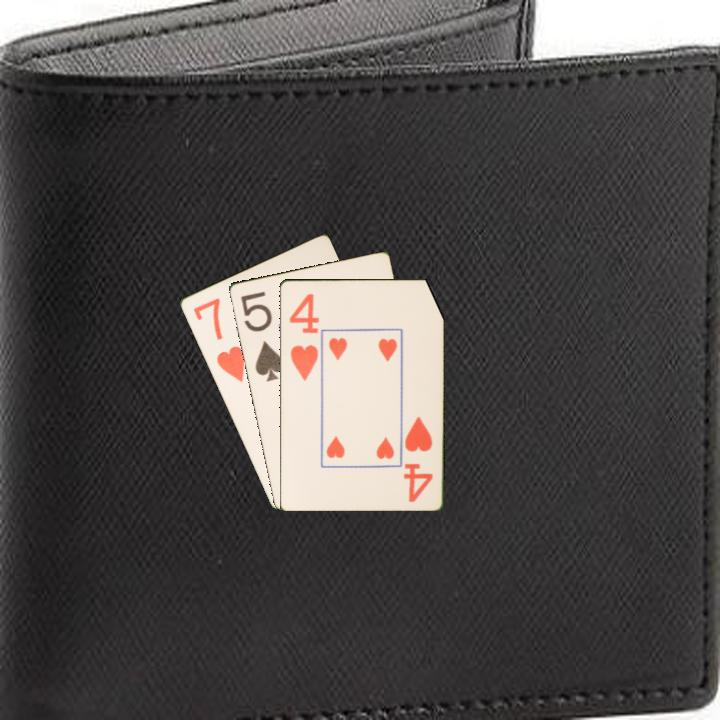4h: (286, 290, 321, 383), (401, 413, 435, 504)
5s: (237, 287, 286, 384)
7h: (189, 294, 248, 385)
